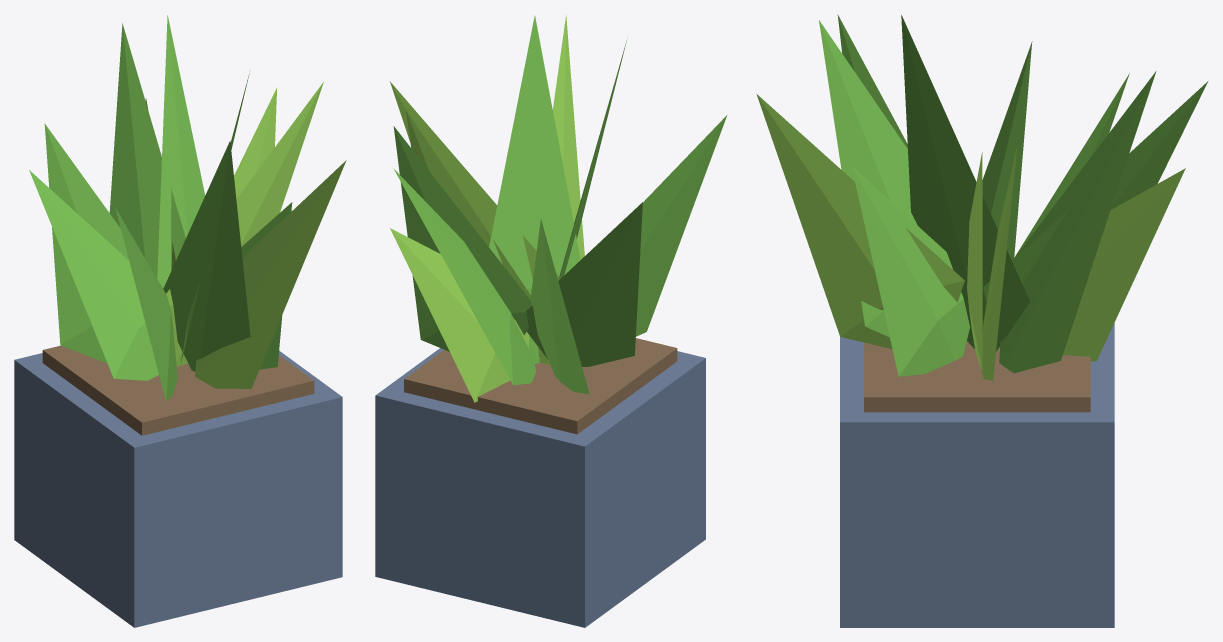
Rendered from 11_plant_medium.glb.
3 views of the same model, side by side, from view 1: azimuth 30°, elevation 25°; view 2: azimuth 150°, elevation 25°; view 3: azimuth 270°, elevation 25° (orthographic). The views are drawn at different scales.
Visible parts, largest first — view 1: part_1, part_13, part_2, part_10, part_12, part_7, part_8, part_4, part_9, part_11, part_3, part_14; view 2: part_1, part_5, part_2, part_10, part_6, part_11, part_4, part_7, part_8, part_9, part_12, part_3 (+1 smaller); view 3: part_1, part_4, part_12, part_5, part_14, part_2, part_6, part_13, part_7, part_10, part_3, part_9 (+2 smaller).
Boxes of the visible parts, bbox=[...] form: part_1: bbox=[14, 350, 342, 627]; part_13: bbox=[163, 140, 250, 371]; part_2: bbox=[42, 345, 314, 435]; part_10: bbox=[29, 170, 158, 380]; part_12: bbox=[195, 160, 346, 388]; part_7: bbox=[109, 23, 185, 278]; part_8: bbox=[44, 123, 163, 362]; part_4: bbox=[157, 15, 205, 287]; part_9: bbox=[166, 82, 323, 366]; part_11: bbox=[115, 208, 177, 401]; part_3: bbox=[234, 88, 276, 198]; part_14: bbox=[241, 202, 292, 369]; part_1: bbox=[375, 348, 705, 627]; part_5: bbox=[489, 15, 580, 363]; part_2: bbox=[404, 338, 677, 434]; part_10: bbox=[526, 202, 642, 366]; part_6: bbox=[390, 228, 529, 402]; part_11: bbox=[636, 115, 727, 336]; part_4: bbox=[393, 126, 531, 351]; part_7: bbox=[393, 168, 536, 385]; part_8: bbox=[530, 219, 589, 394]; part_9: bbox=[390, 81, 559, 364]; part_12: bbox=[553, 15, 584, 259]; part_3: bbox=[406, 110, 530, 299]; part_1: bbox=[840, 323, 1114, 627]; part_4: bbox=[999, 71, 1156, 373]; part_12: bbox=[756, 94, 964, 349]; part_5: bbox=[901, 15, 1029, 351]; part_14: bbox=[851, 166, 969, 376]; part_2: bbox=[864, 341, 1090, 412]; part_6: bbox=[1063, 168, 1185, 361]; part_13: bbox=[819, 20, 917, 337]; part_7: bbox=[983, 81, 1208, 301]; part_10: bbox=[982, 41, 1032, 260]; part_3: bbox=[980, 145, 1017, 380]; part_9: bbox=[967, 152, 982, 370].
Size of the model in its own units: 0.8865 by 1.57 by 1.11.
